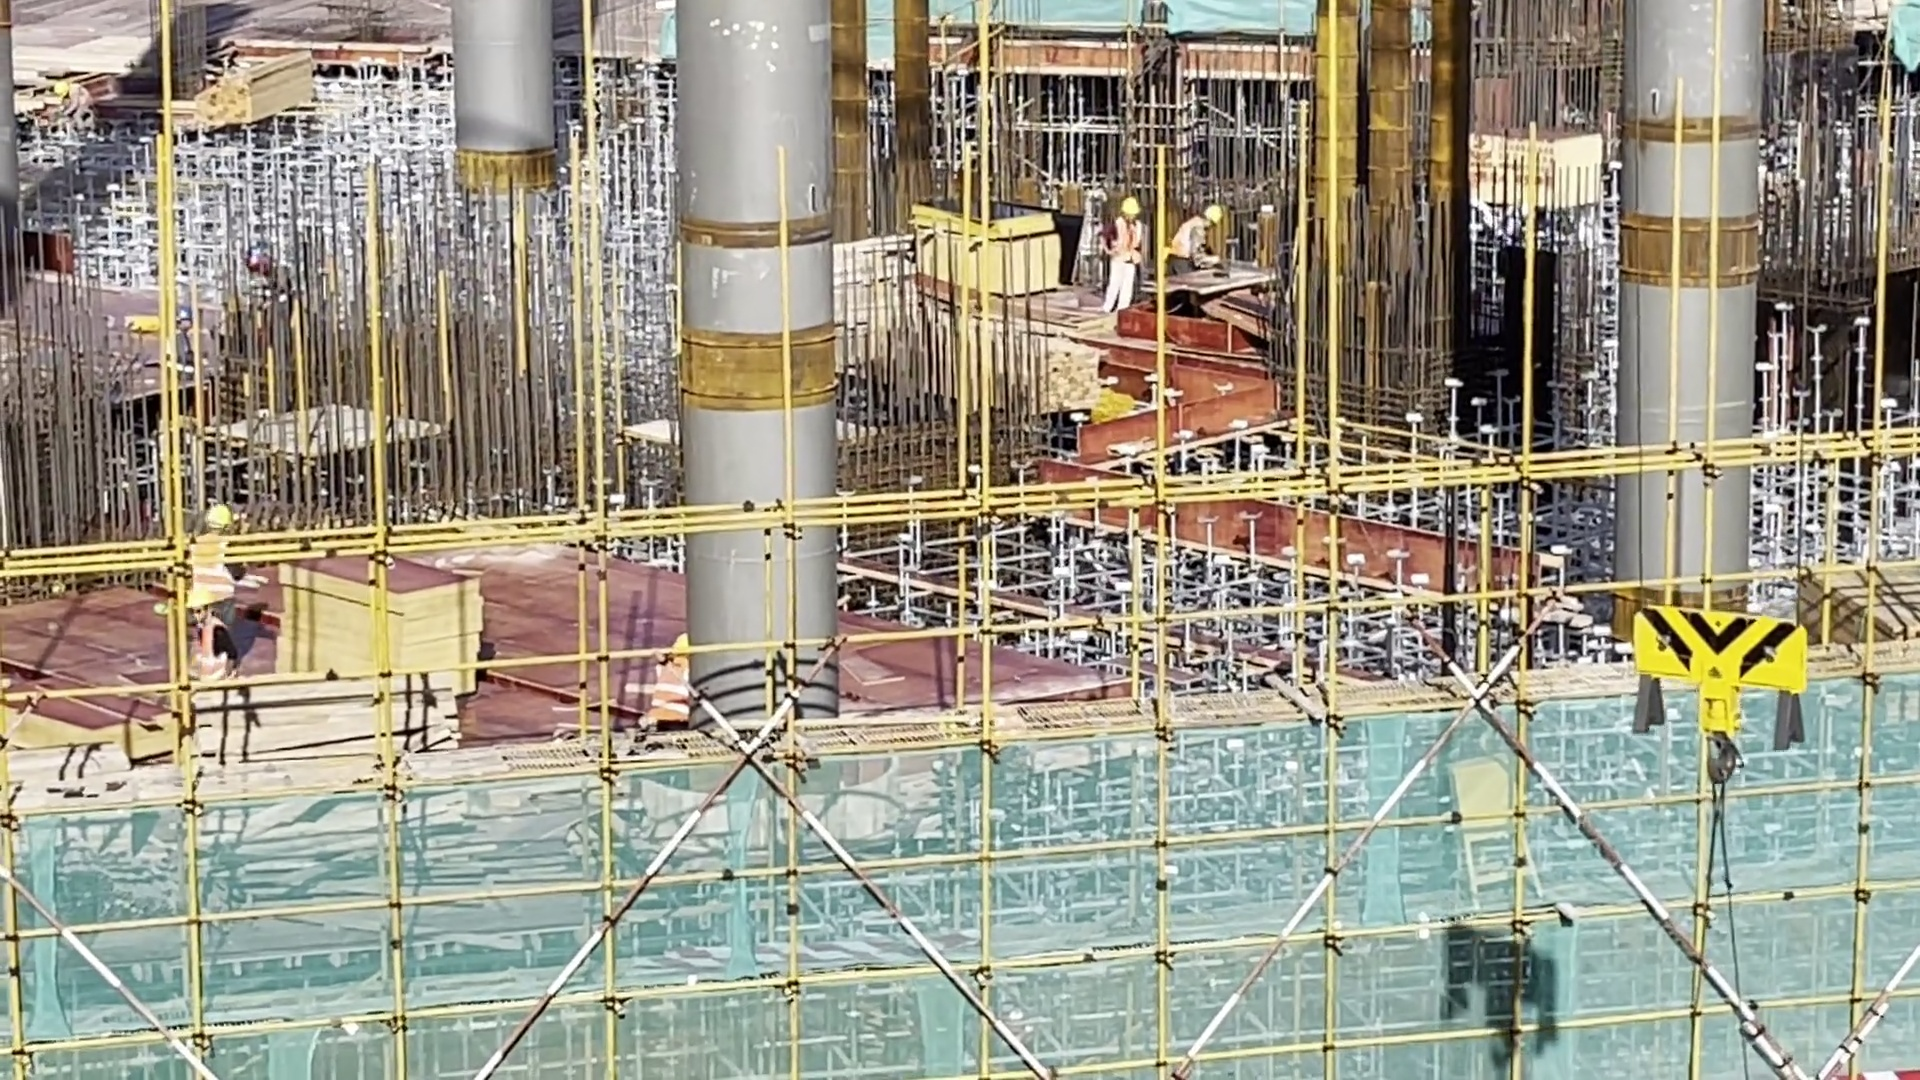board: (270, 549, 490, 716), (916, 190, 1069, 305), (1801, 559, 1920, 655)
ebox: (1441, 744, 1545, 907)
helmet: (666, 632, 695, 667), (205, 503, 230, 536), (1120, 195, 1141, 223), (1204, 203, 1222, 233)
hook: (1606, 576, 1837, 781)
person: (176, 498, 252, 686), (1094, 198, 1161, 323), (1168, 193, 1230, 301), (640, 630, 704, 733)
vest: (646, 661, 698, 735), (189, 541, 234, 616), (196, 617, 227, 684), (1170, 214, 1209, 260), (1115, 219, 1147, 268)
wood: (161, 653, 456, 810), (175, 51, 331, 141)
